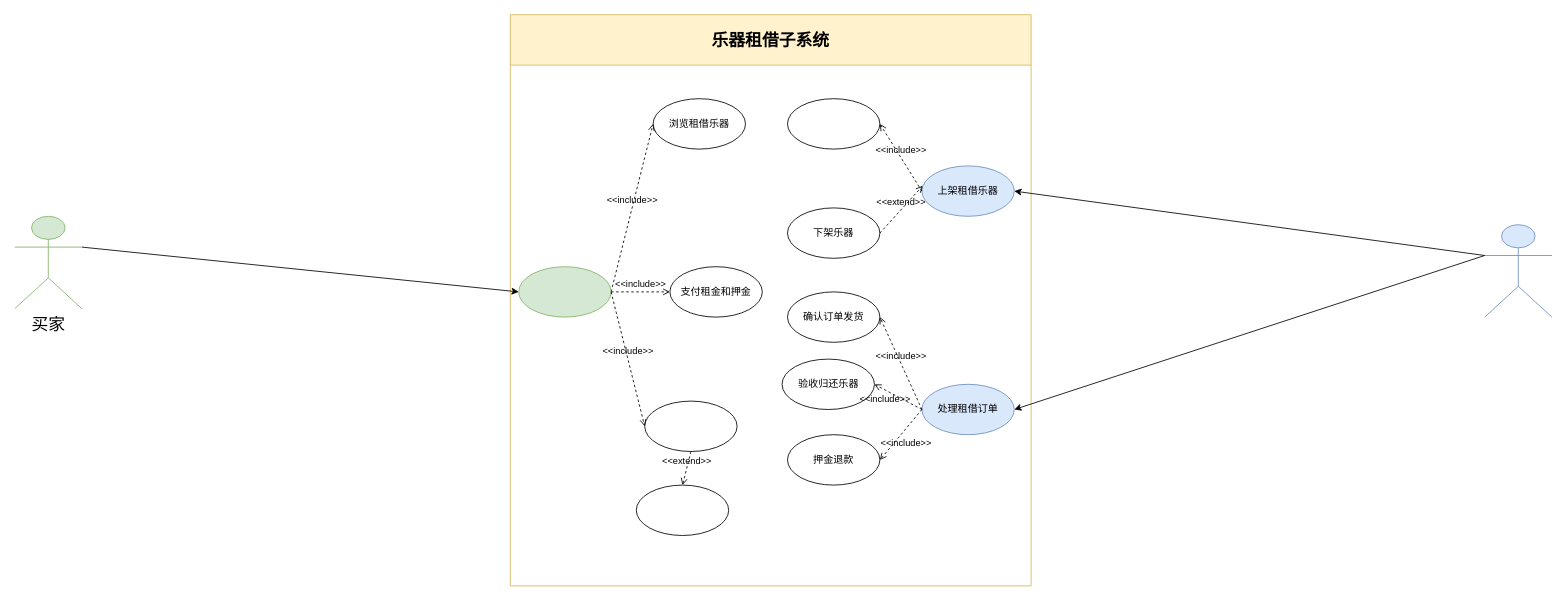
The diagram is 1567 pixels wide and 601 high, and some of its shapes have lost their labels. Here are the shapes that lost their labels. From the top down, the box of each, then its label:
(787, 98, 880, 149): 填写租借信息
(1484, 224, 1552, 317): 商家
(518, 266, 611, 317): 租借乐器
(644, 400, 737, 452): 按时归还乐器
(635, 484, 729, 536): 不按时归还 信用降低
